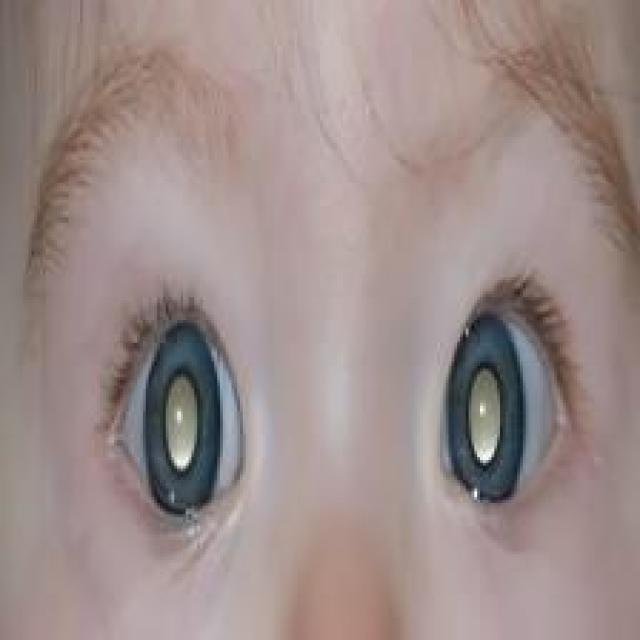reflexo-alterado: (98, 319, 260, 536), (444, 309, 575, 527)
